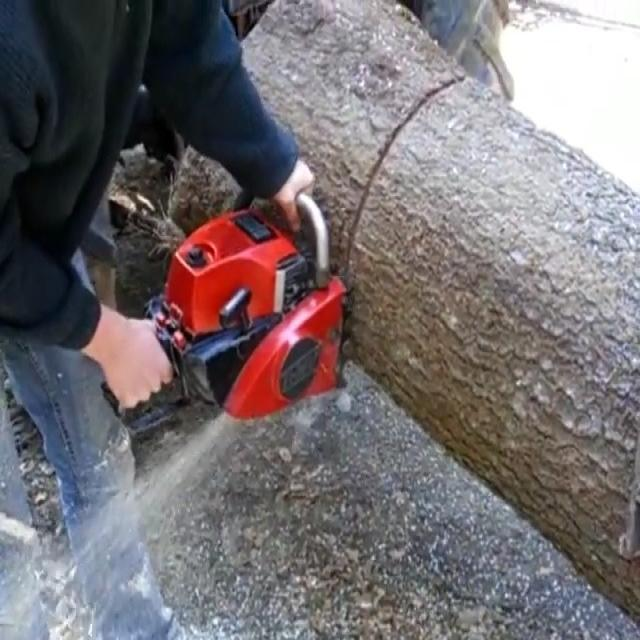Chainsaw: (76, 168, 378, 458)
